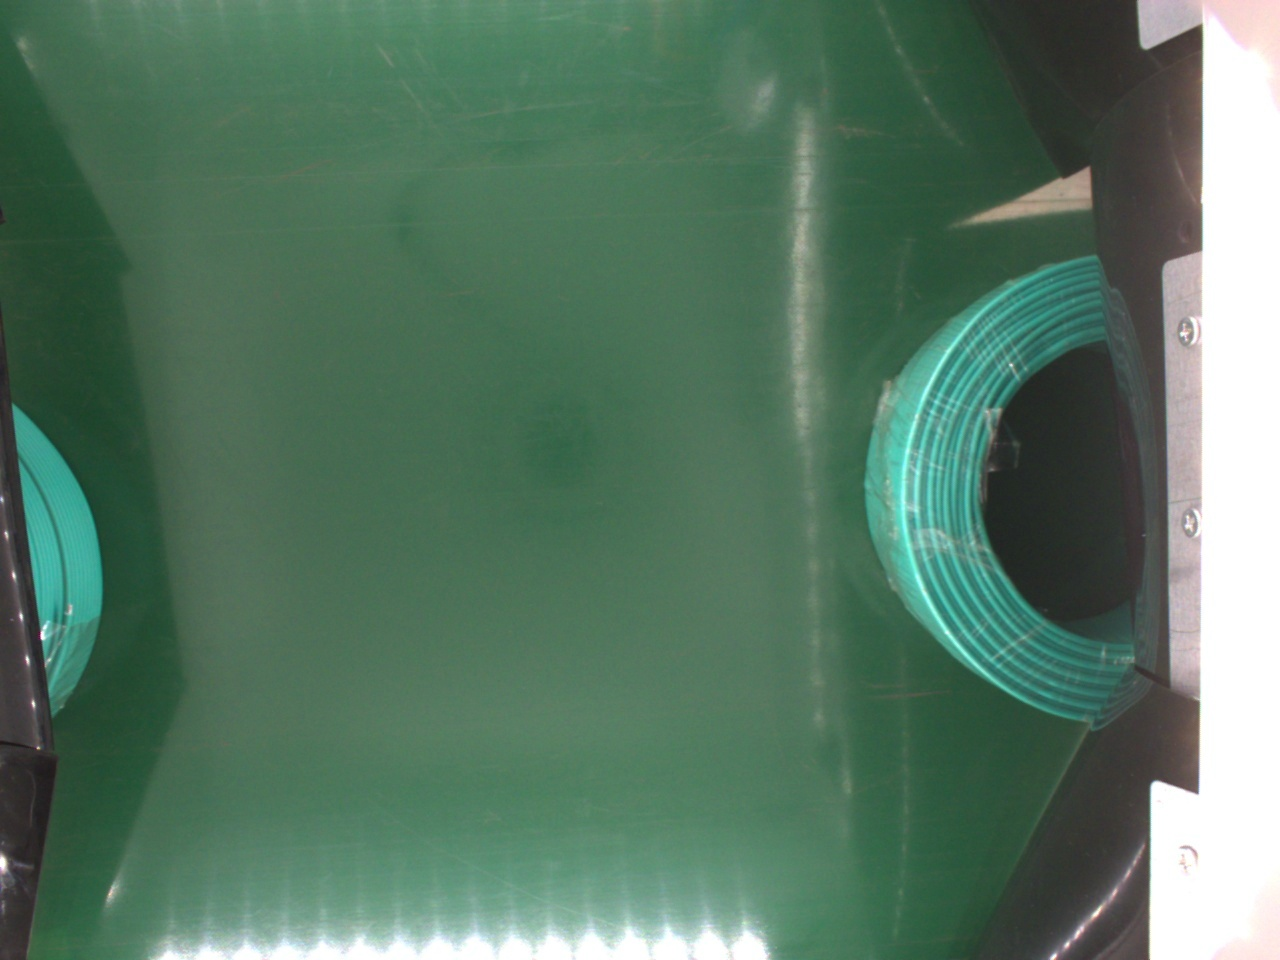green: (865, 253, 1143, 721)
